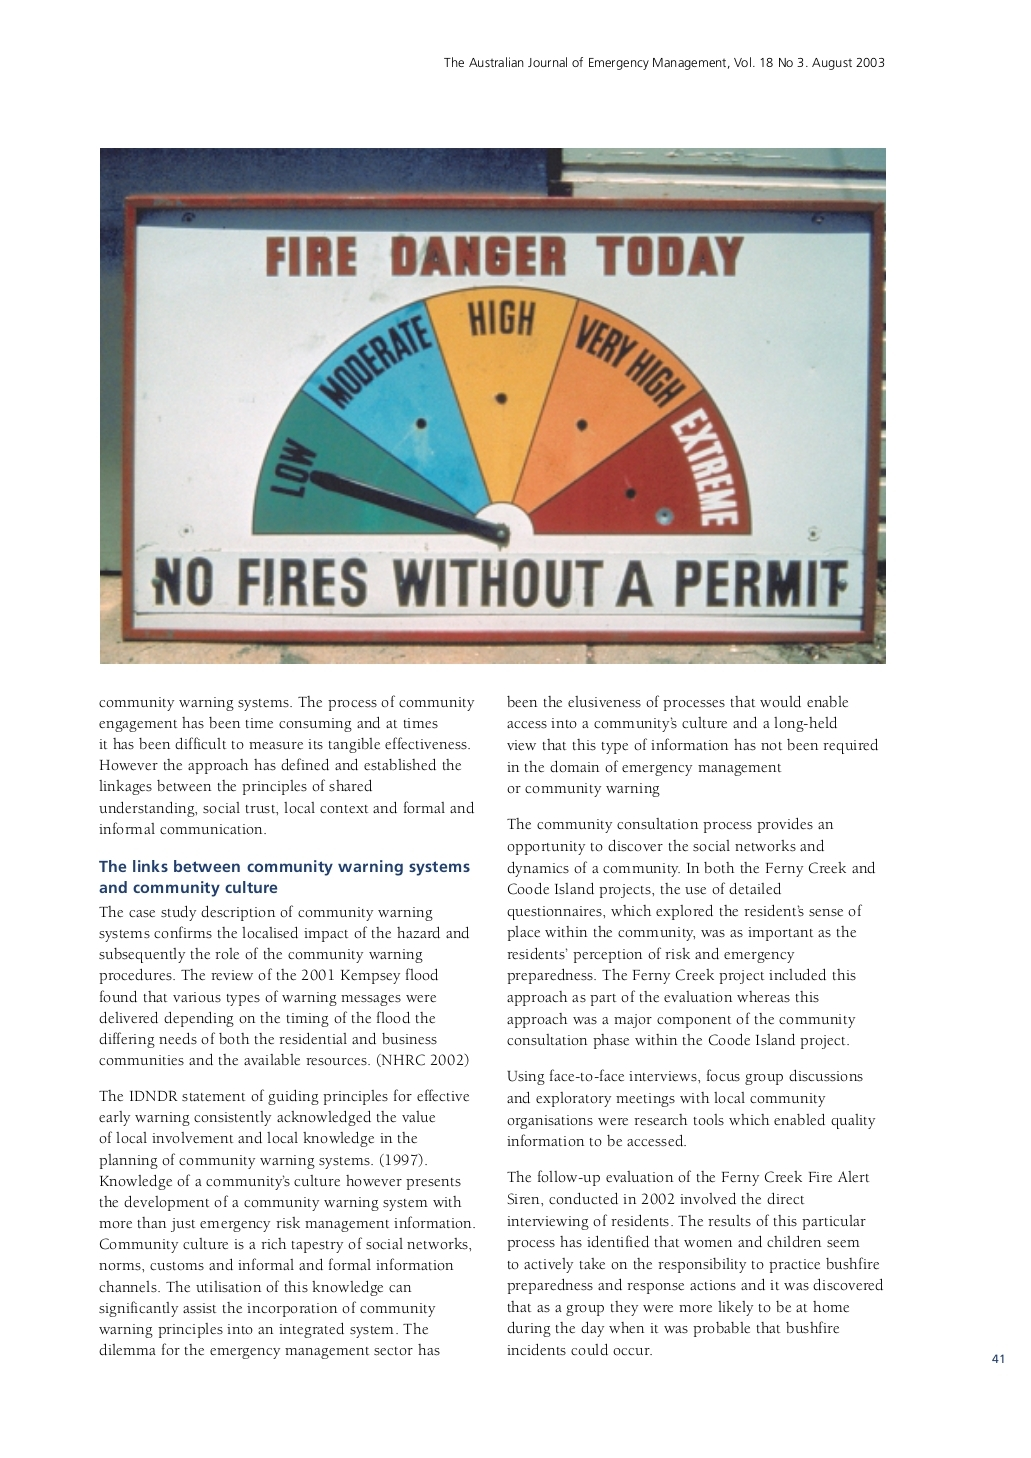figure: (100, 147, 885, 664)
